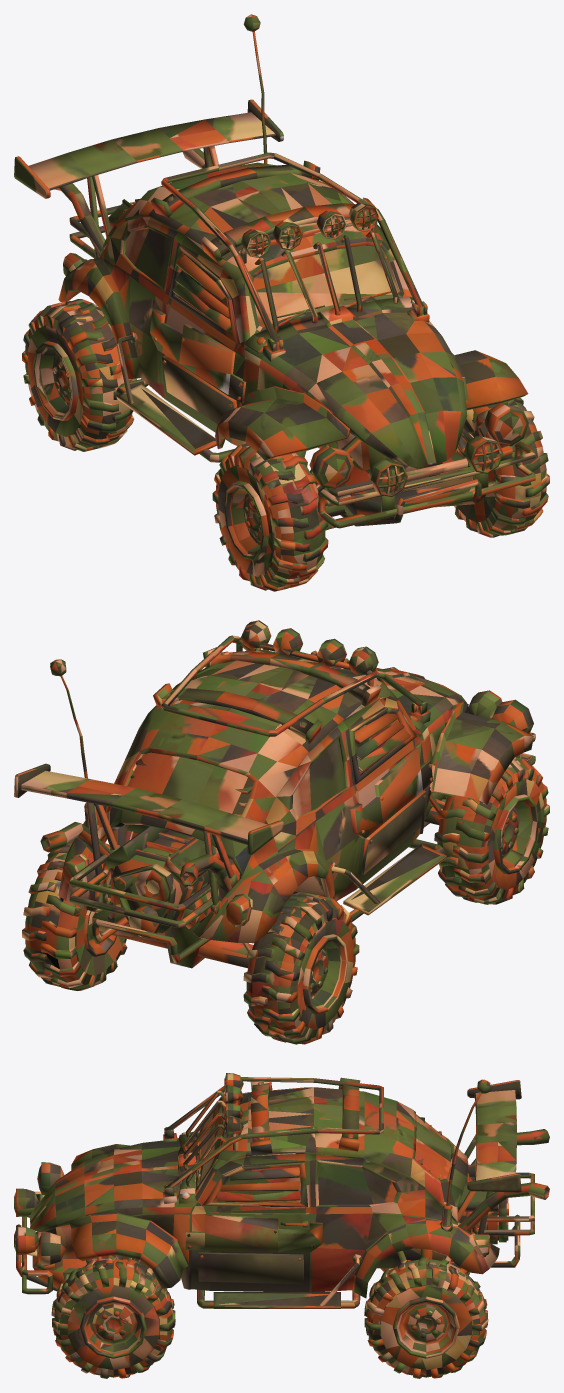
Rendered from Buggy_new.fbx.
The picture shows the model from 3 angles, top to bottom: view 1: azimuth 30°, elevation 25°; view 2: azimuth 150°, elevation 25°; view 3: azimuth 270°, elevation 25°; orthographic projection. The views are drawn at different scales.
Visible parts, largest first — view 1: input, input.001, input.002, input.004; view 2: input, input.002, input.001, input.003; view 3: input, input.003, input.004.
Boxes of the visible parts, left/top/right/bottom form: input: left=14, top=14, right=535, bottom=530; input.001: left=212, top=443, right=328, bottom=591; input.002: left=22, top=299, right=136, bottom=451; input.004: left=454, top=397, right=549, bottom=537; input: left=14, top=620, right=535, bottom=968; input.002: left=243, top=891, right=359, bottom=1044; input.001: left=434, top=757, right=549, bottom=904; input.003: left=22, top=840, right=127, bottom=990; input: left=14, top=1073, right=549, bottom=1308; input.003: left=364, top=1257, right=488, bottom=1378; input.004: left=51, top=1257, right=175, bottom=1378.
Bounding box in the file's own units: 97.19 × 119 × 200.
